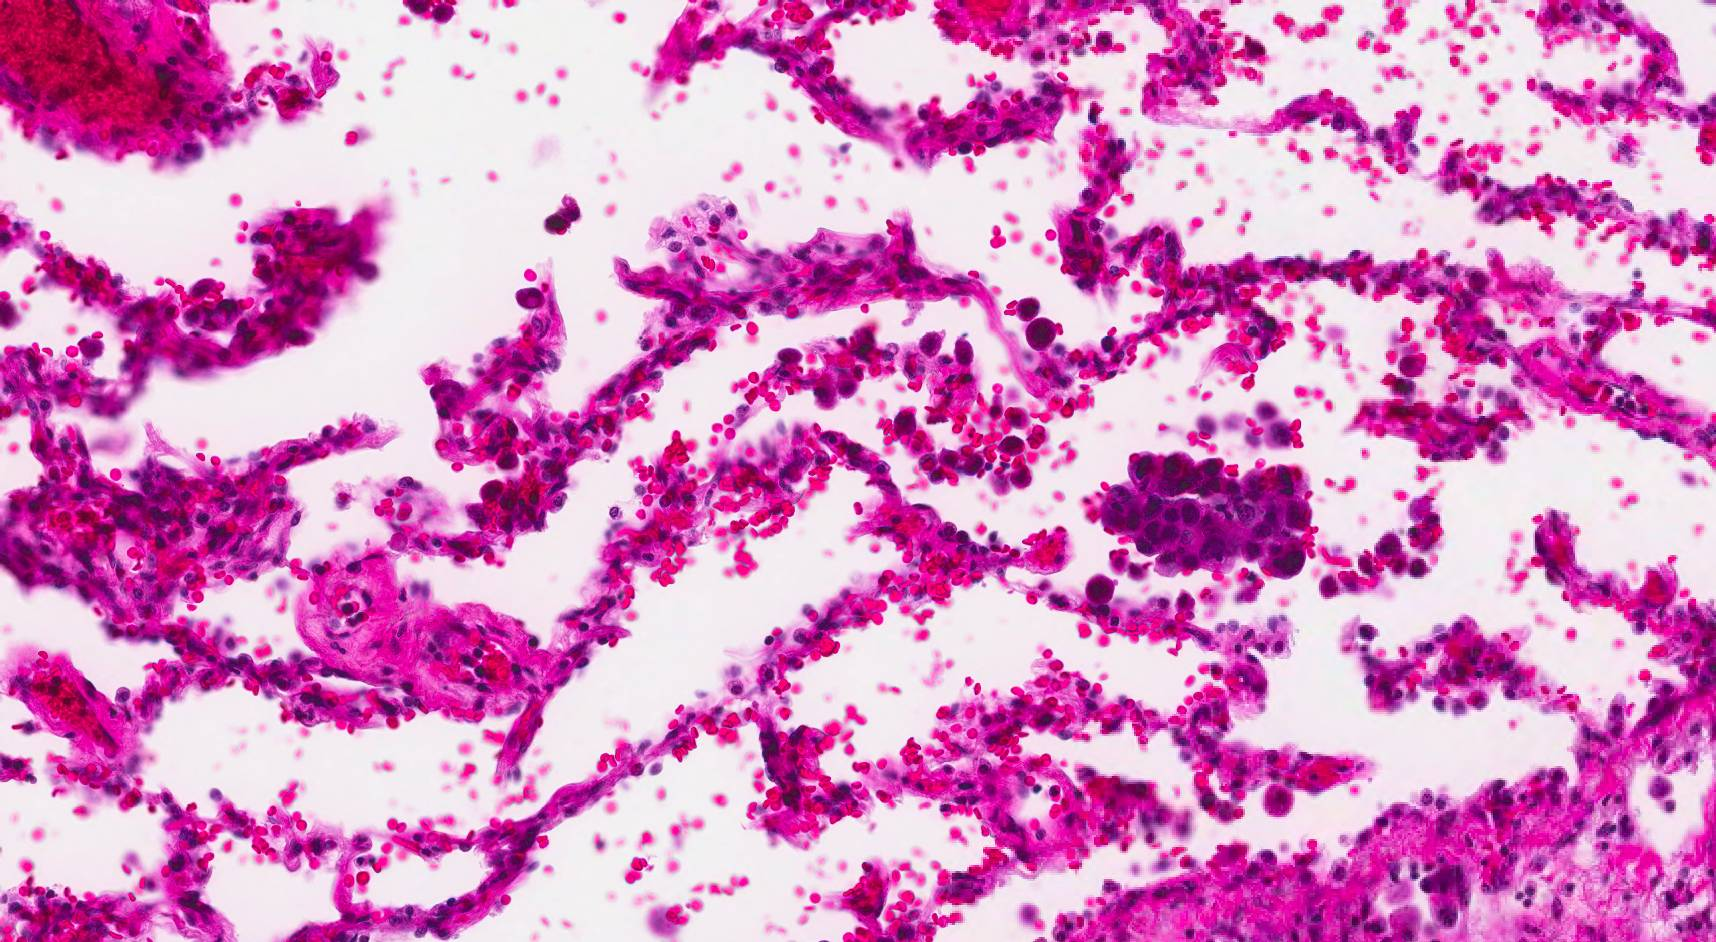stas: (1102, 452, 1322, 582)
